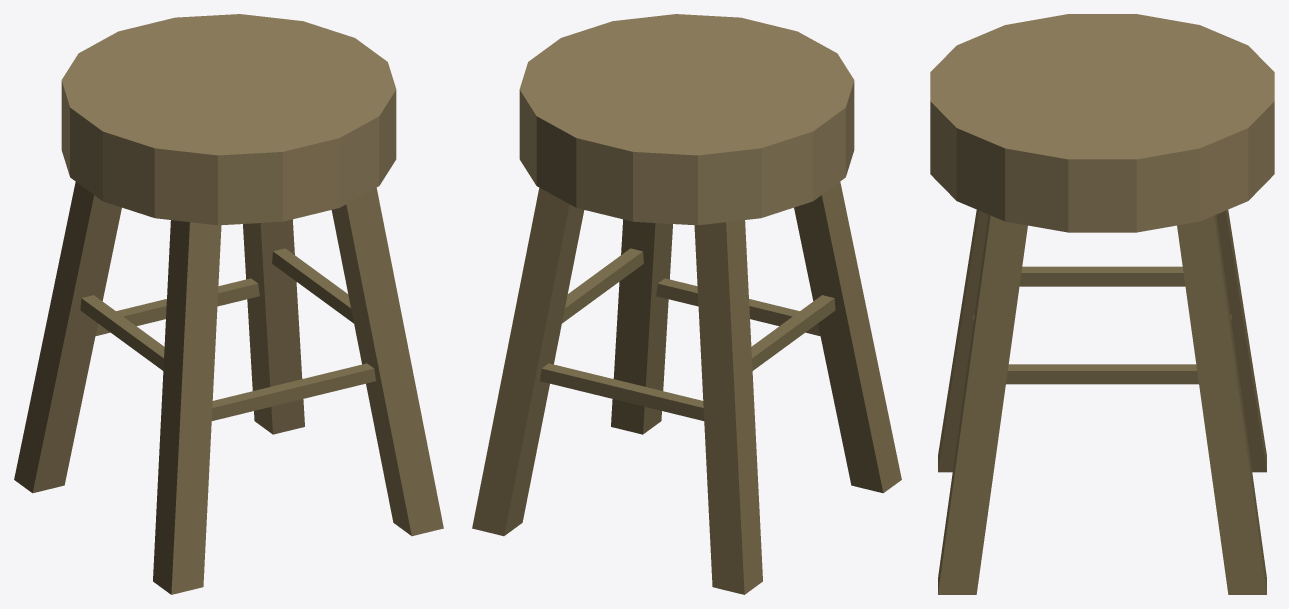
The model's file is stool.glb.
3 renders of one model, left to right at view 1: azimuth 30°, elevation 25°; view 2: azimuth 150°, elevation 25°; view 3: azimuth 270°, elevation 25°, orthographic. The views are drawn at different scales.
Parts seen in each view (by area): view 1: stool_d3_seat_light_wood; view 2: stool_d3_seat_light_wood; view 3: stool_d3_seat_light_wood.
Boxes of the visible parts, <box> form: stool_d3_seat_light_wood: <box>14,14,443,594</box>; stool_d3_seat_light_wood: <box>472,14,901,594</box>; stool_d3_seat_light_wood: <box>930,14,1274,594</box>.
Size of the model in its own units: 0.32 by 0.45 by 0.32.
